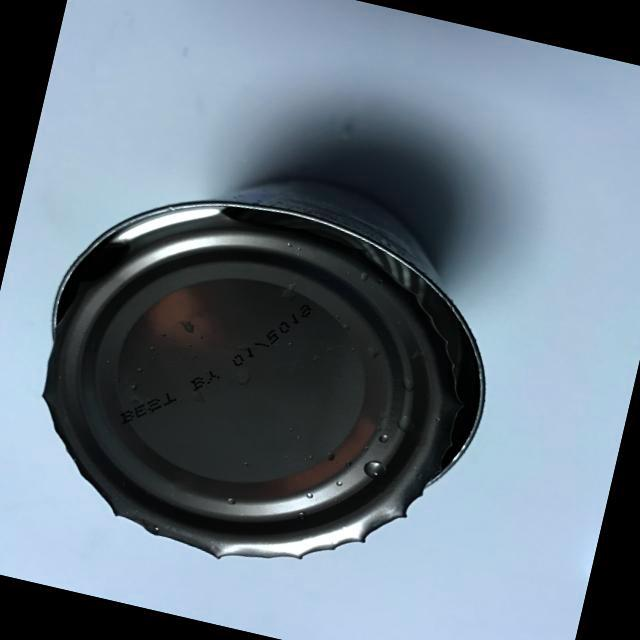metal: (0, 105, 544, 620)
